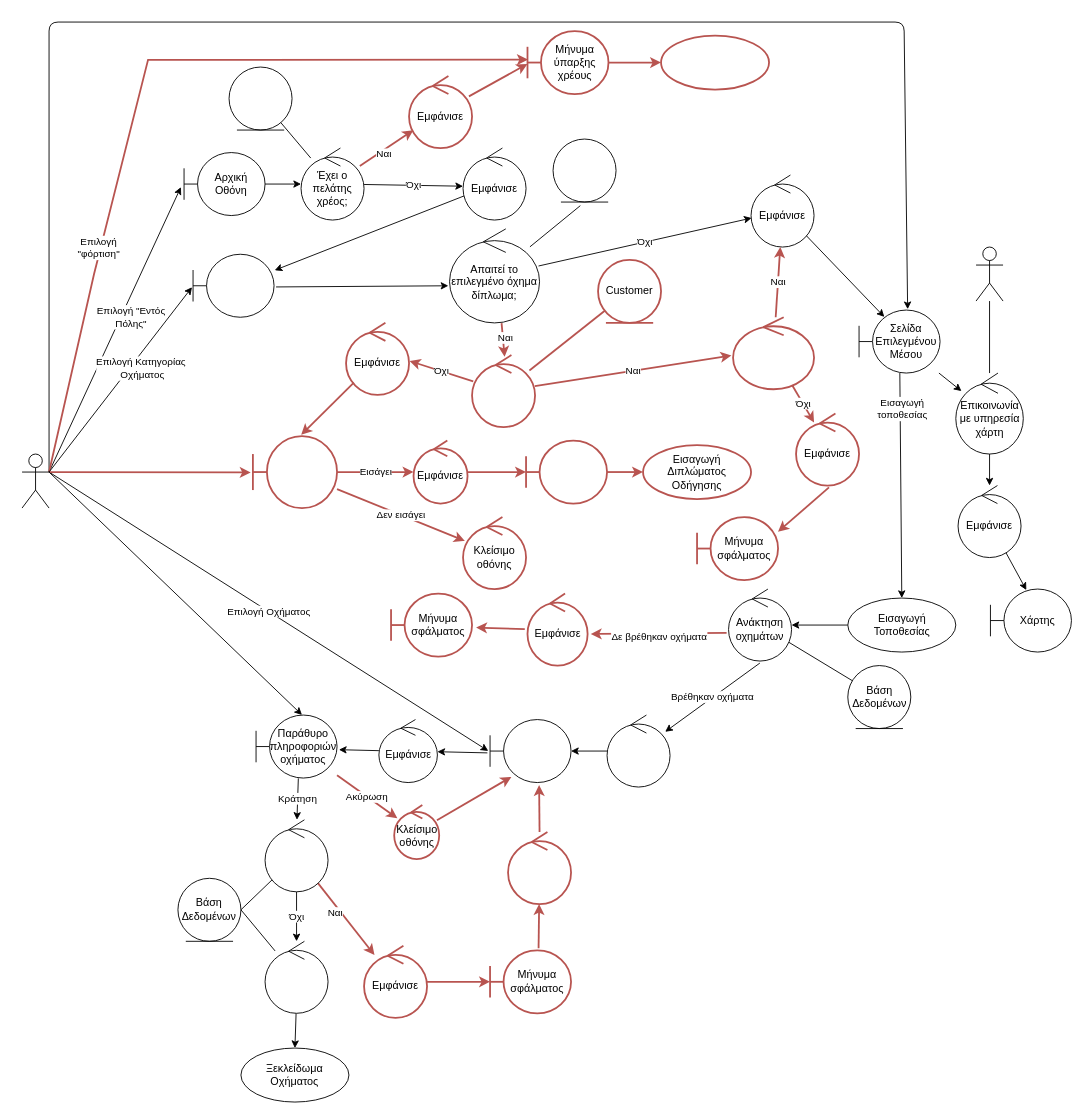
The diagram is 1087 pixels wide and 1118 high, and some of its shapes have lost their labels. The box of each missing label's shape, as (x1, y1, x2, y2) in pixels:
Rental: (552, 138, 616, 202)
Wallet: (228, 66, 292, 130)
Έχει γίνει ήδη κράτηση;: (264, 819, 328, 892)
Έχει συνδέσει δίπλωμα;: (471, 354, 536, 428)
Αποθήκευση κράτησης: (264, 940, 328, 1013)
Αφαίρεση οχήματος από χάρτη: (507, 831, 572, 904)
Εμφάνιση οχημάτων στον χάρτη: (606, 714, 670, 787)
Επιλογή Εισαγωγής Διπλώματος: (252, 435, 338, 508)
Οθόνη "Εντός Πόλης": (192, 253, 274, 317)
Οθόνη εισαγωγής διπλώματος: (525, 439, 608, 504)
Πελάτης: (21, 453, 49, 508)
Το δίπλωμα αφορά το επιλεγμένο μέσο;: (732, 316, 814, 390)
Υπηρεσία Χάρτη: (975, 246, 1003, 301)
Φόρτιση Πορτοφολιού: (660, 34, 770, 90)
Χάρτης με οχήματα: (489, 719, 571, 783)
